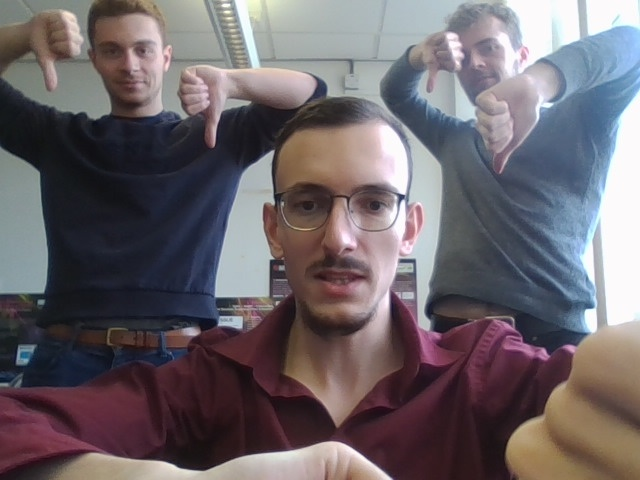thumbdown: (474, 76, 544, 173), (27, 9, 83, 91), (178, 64, 225, 147), (420, 30, 465, 93)
